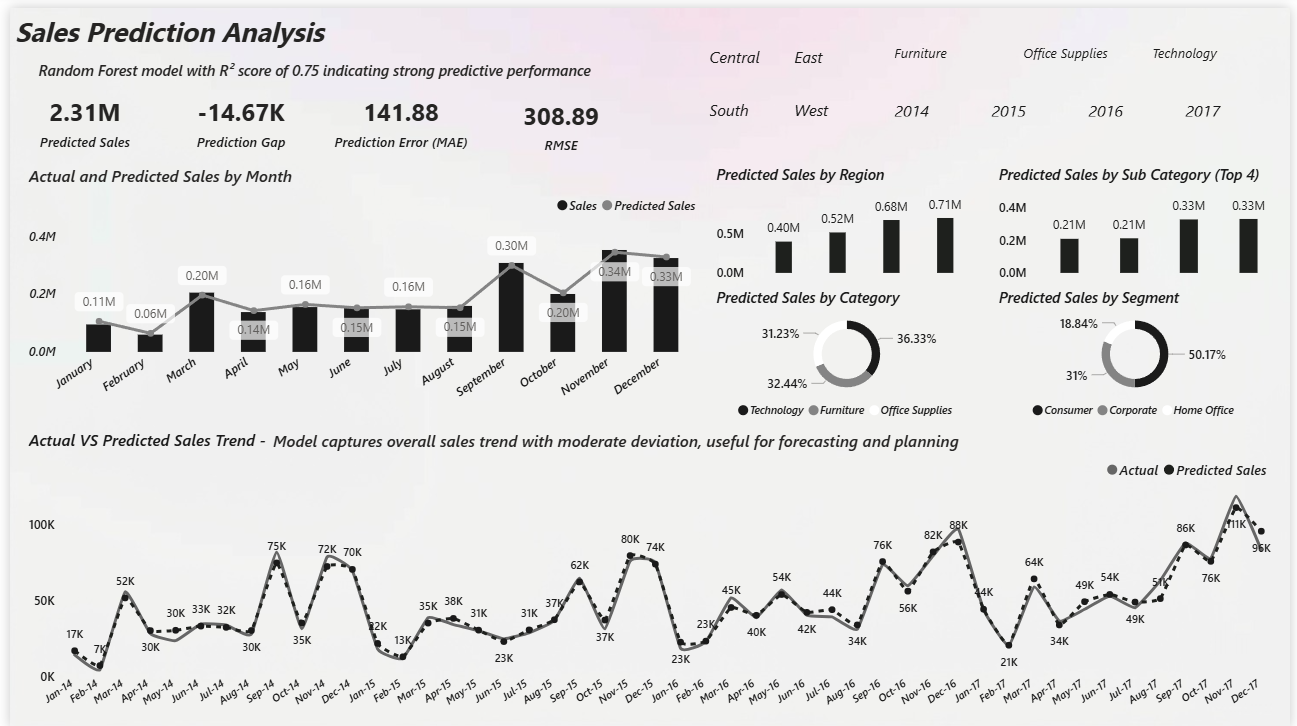

The dashboard page shown, as its layout file describes it:
{"tool":"powerbi","page":{"name":"Sales Prediction Analysis","canvas":[1280,720],"ordinal":7},"visuals":[{"type":"card","fields":{"Values":["Sum(superstore_predictions.Predicted_Sales)"]},"box":[14.3,72.9,122.9,82.9],"z":0},{"type":"lineChart","title":"Actual VS Predicted Sales Trend -","fields":{"Category":["superstore_predictions.MonthYear"],"Y":["Sum(superstore_predictions.Sales)","Sum(superstore_predictions.Predicted_Sales)"]},"box":[14.3,420,1252.9,288.6],"z":1000},{"type":"columnChart","fields":{"Category":["superstore_predictions.Region"],"Y":["Sum(superstore_predictions.Predicted_Sales)"]},"box":[701.8,155.7,271.4,122.9],"z":2000},{"type":"donutChart","fields":{"Y":["Sum(superstore_predictions.Predicted_Sales)"],"Category":["superstore_predictions.Category"]},"box":[701.8,278.6,271.4,141.4],"z":3000},{"type":"donutChart","fields":{"Y":["Sum(superstore_predictions.Predicted_Sales)"],"Category":["superstore_predictions.Segment"]},"box":[984.3,278.6,282.9,141.4],"z":4000},{"type":"columnChart","title":"Predicted Sales by Sub Category (Top 4)","fields":{"Y":["Sum(superstore_predictions.Predicted_Sales)"],"Category":["superstore_predictions.Sub_Category"]},"box":[984.3,155.7,295.7,122.9],"z":5000},{"type":"lineStackedColumnComboChart","title":"Actual and Predicted Sales by Month","fields":{"Category":["superstore_predictions.Order_Date.Variation.Date Hierarchy.Month"],"Y":["Sum(superstore_predictions.Sales)"],"Y2":["Sum(superstore_predictions.Predicted_Sales)"]},"box":[14.3,155.7,681.4,252.9],"z":6000},{"type":"advancedSlicerVisual","fields":{"Values":["Superstore.Region"]},"box":[681,18.6,172.9,110],"z":7000},{"type":"advancedSlicerVisual","fields":{"Values":["Superstore.Category"]},"box":[865.7,17.1,390,55.7],"z":8000},{"type":"advancedSlicerVisual","fields":{"Values":["Superstore.Year"]},"box":[865.7,72.9,390,54.3],"z":9000},{"type":"textbox","box":[0,0,338.6,45.7],"z":10000},{"type":"actionButton","box":[1180,641.4,100,78.6],"z":11000},{"type":"card","fields":{"Values":["superstore_predictions.Model Summary"]},"box":[21.4,48.6,567.1,31.4],"z":12000},{"type":"card","fields":{"Values":["superstore_predictions.Prediction Gap"]},"box":[151.4,72.9,160,82.9],"z":13000},{"type":"card","fields":{"Values":["superstore_predictions.Prediction Insight"]},"box":[252.9,415.7,707.1,37.1],"z":14000},{"type":"card","fields":{"Values":["superstore_predictions.Prediction Error (MAE)"]},"box":[311.4,72.9,160,82.9],"z":15000},{"type":"card","fields":{"Values":["superstore_predictions.RMSE"]},"box":[471.4,75.7,160,82.9],"z":16000}]}

Visuals, with their boxes in screenshot pixels (x1, y1, x2, y2), scaled from the page's 1280x720 canvas onto the 1297x726 screenshot:
card - Sum(superstore_predictions.Predicted_Sales): left=14, top=74, right=139, bottom=157
"Actual VS Predicted Sales Trend -" lineChart: left=14, top=424, right=1284, bottom=715
columnChart - superstore_predictions.Region x Sum(superstore_predictions.Predicted_Sales): left=711, top=157, right=986, bottom=281
donutChart - Sum(superstore_predictions.Predicted_Sales) x superstore_predictions.Category: left=711, top=281, right=986, bottom=424
donutChart - Sum(superstore_predictions.Predicted_Sales) x superstore_predictions.Segment: left=997, top=281, right=1284, bottom=424
"Predicted Sales by Sub Category (Top 4)" columnChart: left=997, top=157, right=1296, bottom=281
"Actual and Predicted Sales by Month" lineStackedColumnComboChart: left=14, top=157, right=705, bottom=412
advancedSlicerVisual - Superstore.Region: left=690, top=19, right=865, bottom=130
advancedSlicerVisual - Superstore.Category: left=877, top=17, right=1272, bottom=73
advancedSlicerVisual - Superstore.Year: left=877, top=74, right=1272, bottom=128
textbox: left=0, top=0, right=343, bottom=46
actionButton: left=1196, top=647, right=1296, bottom=725
card - superstore_predictions.Model Summary: left=22, top=49, right=596, bottom=81
card - superstore_predictions.Prediction Gap: left=153, top=74, right=316, bottom=157
card - superstore_predictions.Prediction Insight: left=256, top=419, right=973, bottom=457
card - superstore_predictions.Prediction Error (MAE): left=316, top=74, right=478, bottom=157
card - superstore_predictions.RMSE: left=478, top=76, right=640, bottom=160
